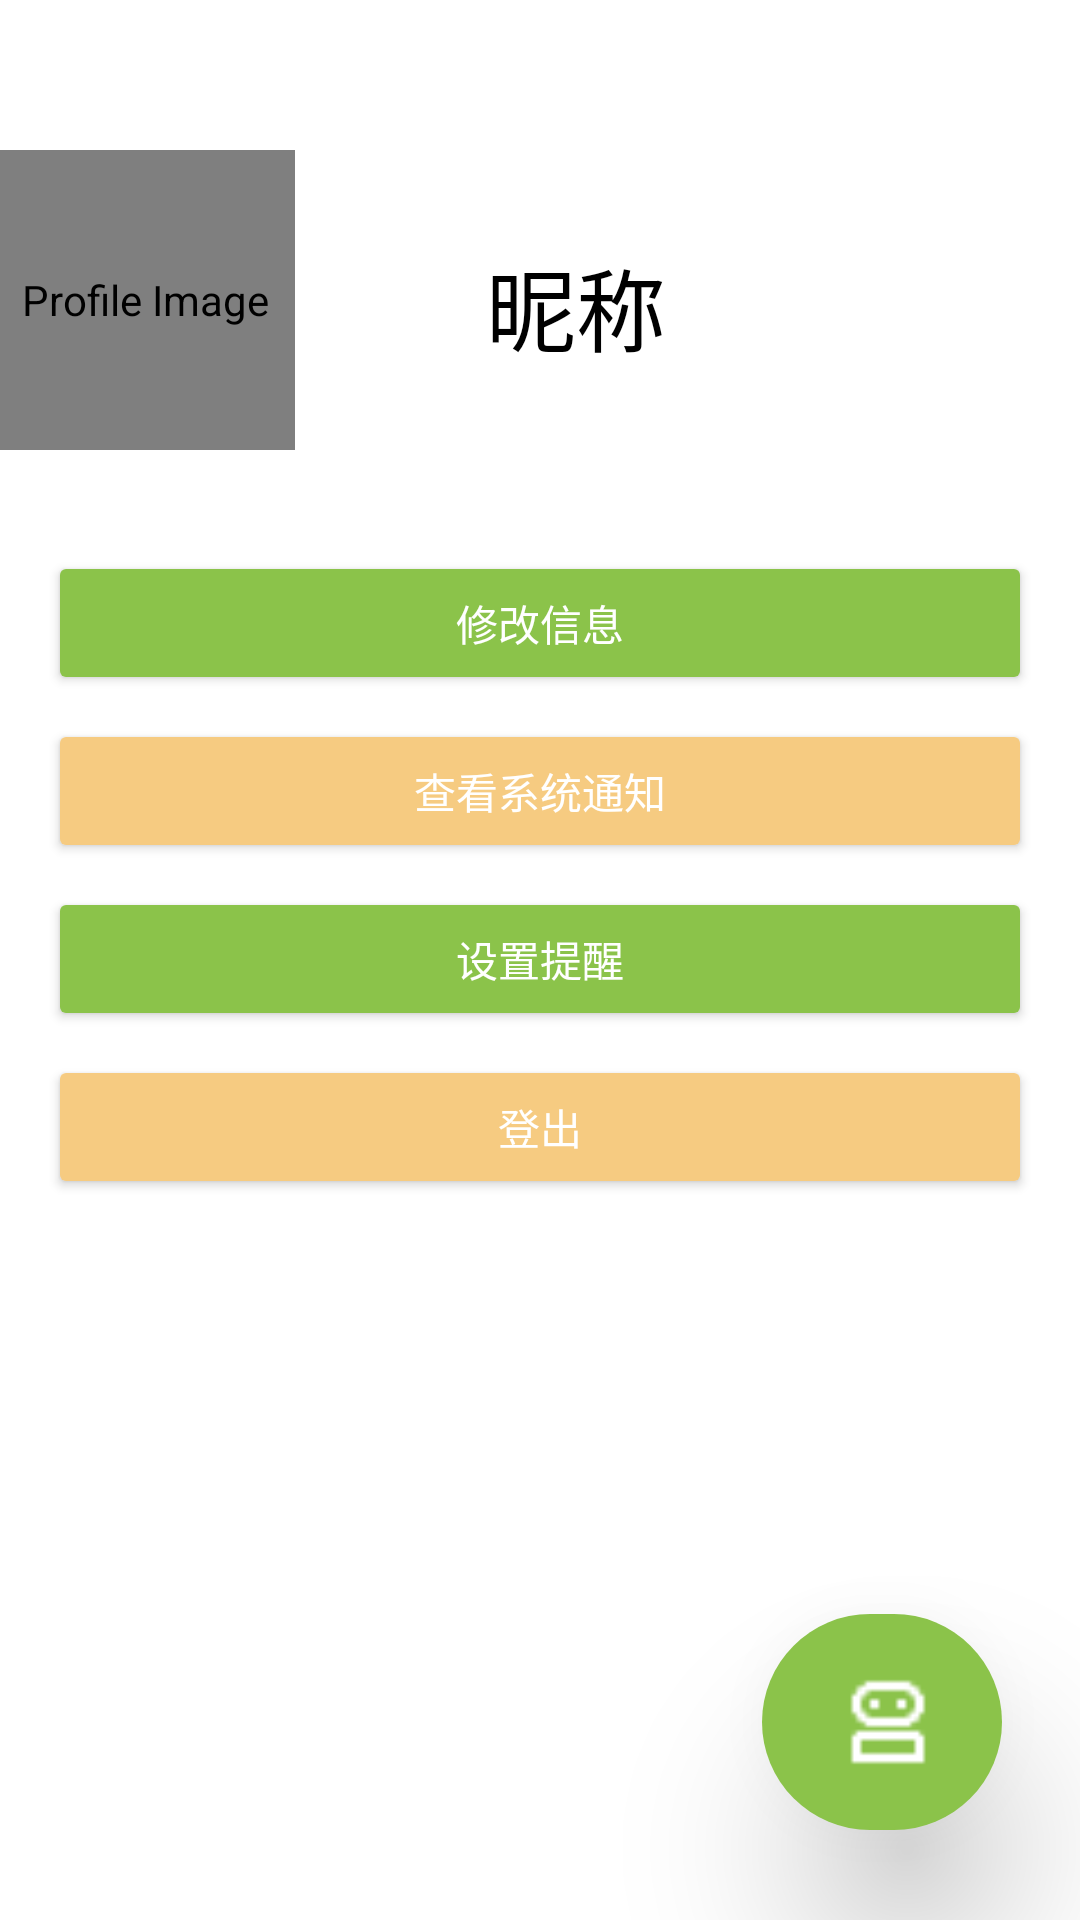

Where icons sit on this 1080×1920 app screen, as (x1, y1, x2, y2):
robot: (762, 1614, 1002, 1842)
